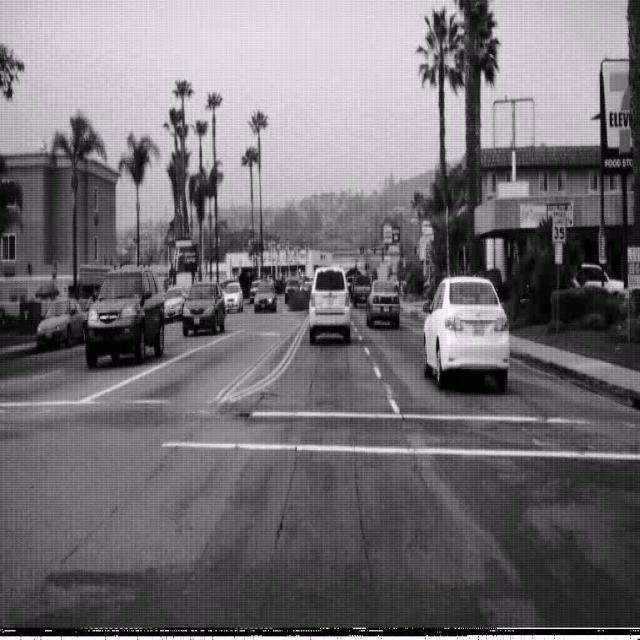speedLimit35: (552, 208, 566, 243)
